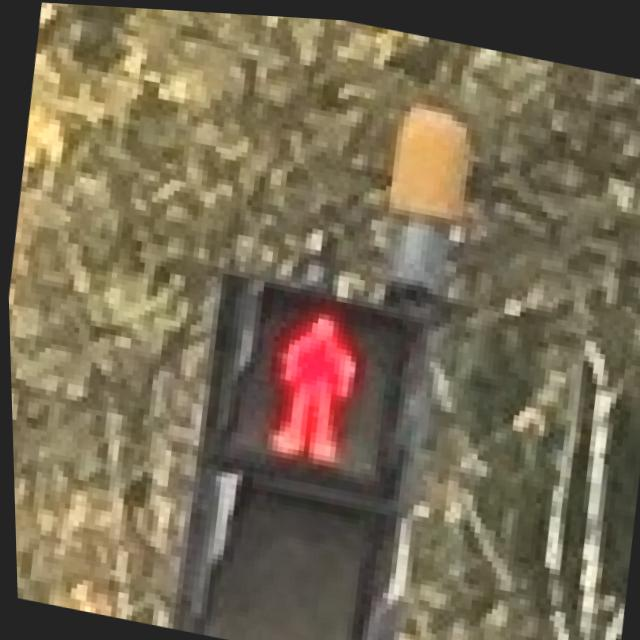red_light: (205, 261, 413, 491)
